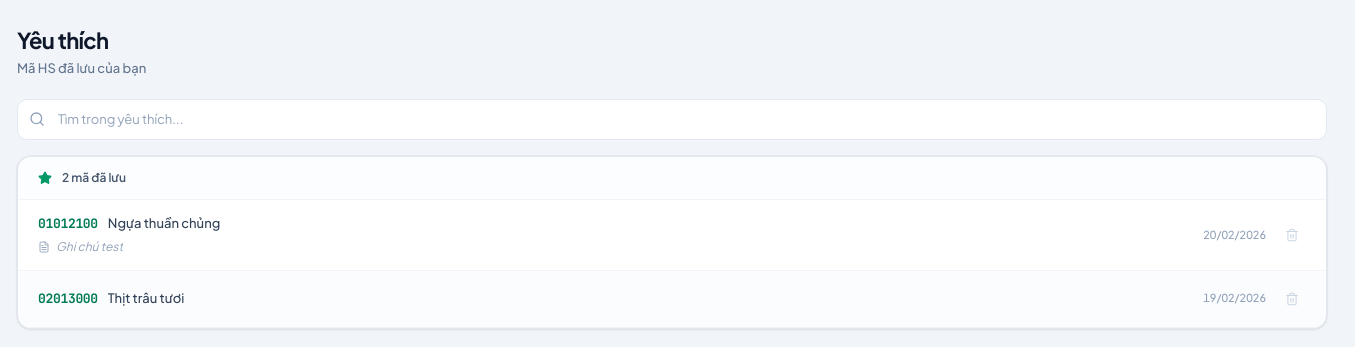
Test: FavoritesPage › shows undo toast after removal
Expected: the text "01012100" is shown, [38,214,98,234]
Click the 1st button named "Xóa khỏi yêu thích".
click(1292, 235)  # box [1278,221,1306,249]
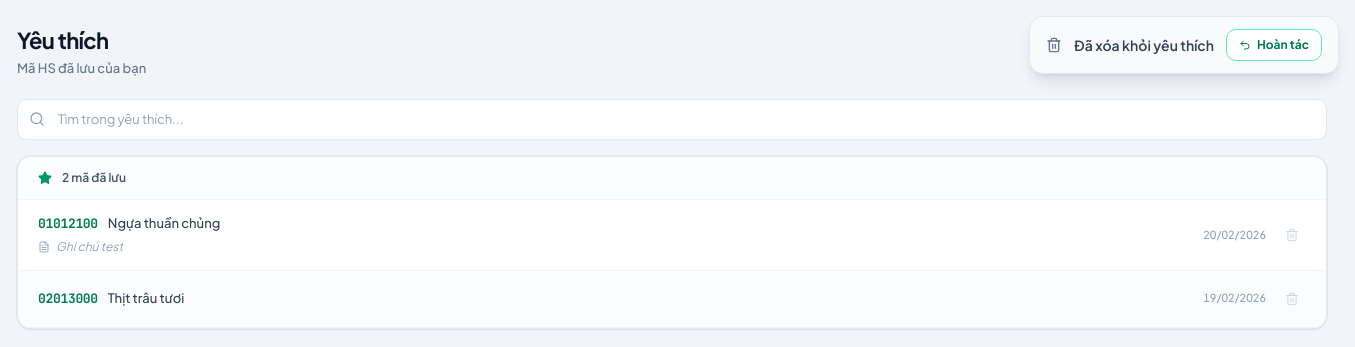
Result: the text "Đã xóa khỏi yêu thích" is shown at [1074,35,1214,55]
Result: the button "Hoàn tác" is shown at [1226,29,1322,61]
